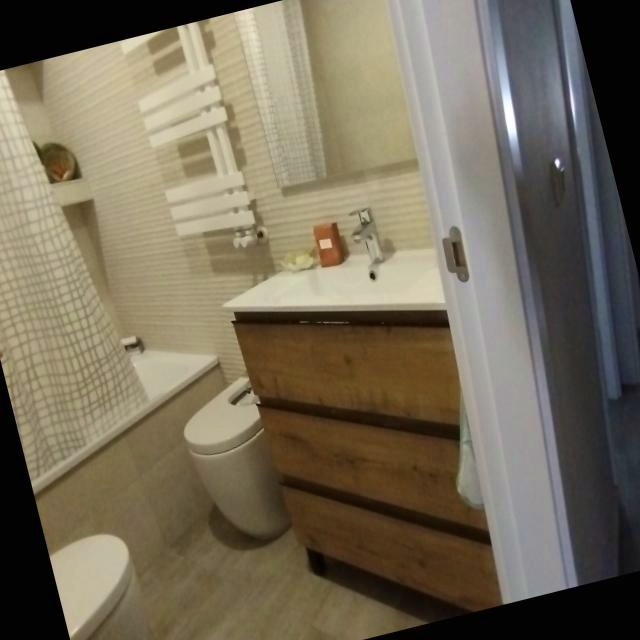bathtube: (0, 69, 225, 558)
shower: (352, 208, 382, 264)
table: (49, 534, 151, 640)
wardrobe: (224, 248, 504, 612)
